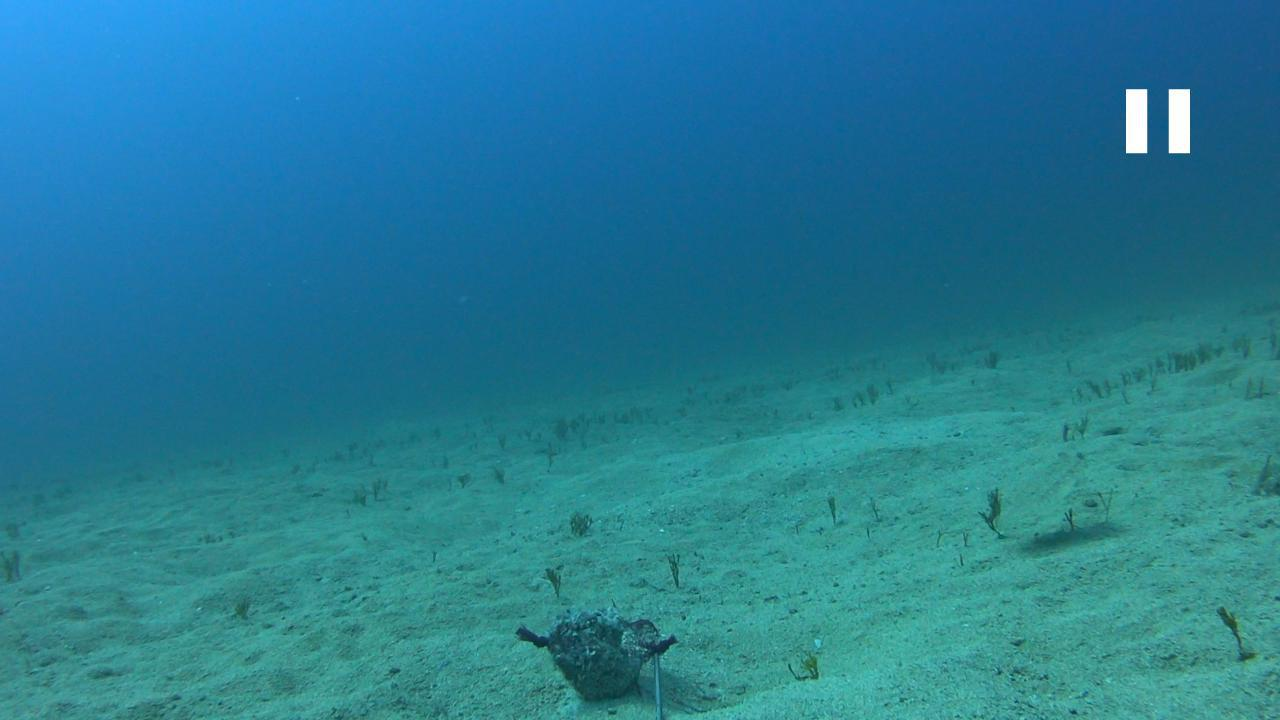bothus: (990, 440, 1100, 542)
